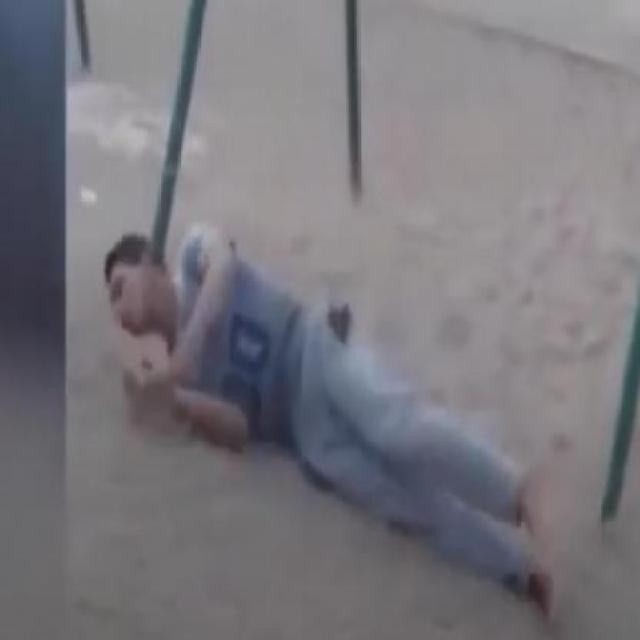fall: (106, 213, 566, 622)
